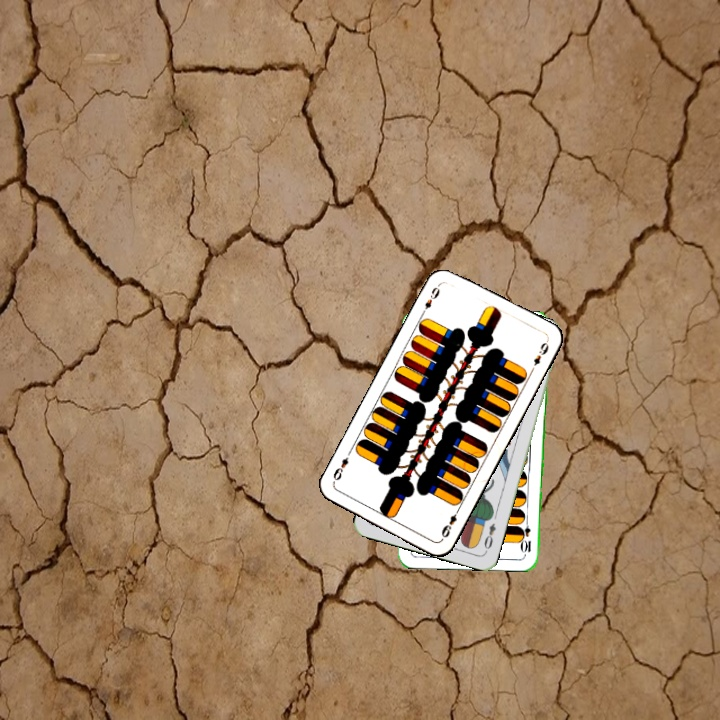E10: (519, 515, 534, 555)
E9: (417, 280, 443, 317), (437, 504, 462, 540)
EO: (480, 519, 499, 552)
